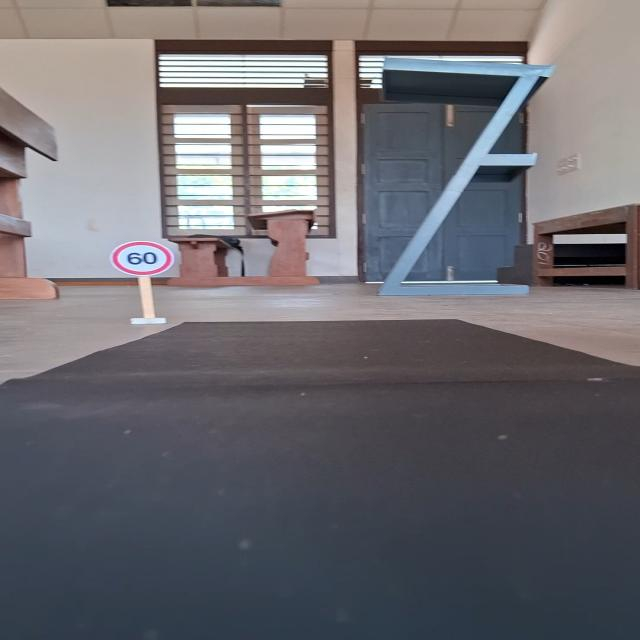Speed60: (108, 240, 176, 276)
